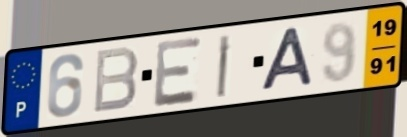6: (44, 52, 85, 120)
9: (320, 20, 361, 84)
A: (258, 24, 316, 94)
B: (91, 44, 141, 116)
E: (152, 34, 204, 110)
I: (215, 32, 234, 100)
